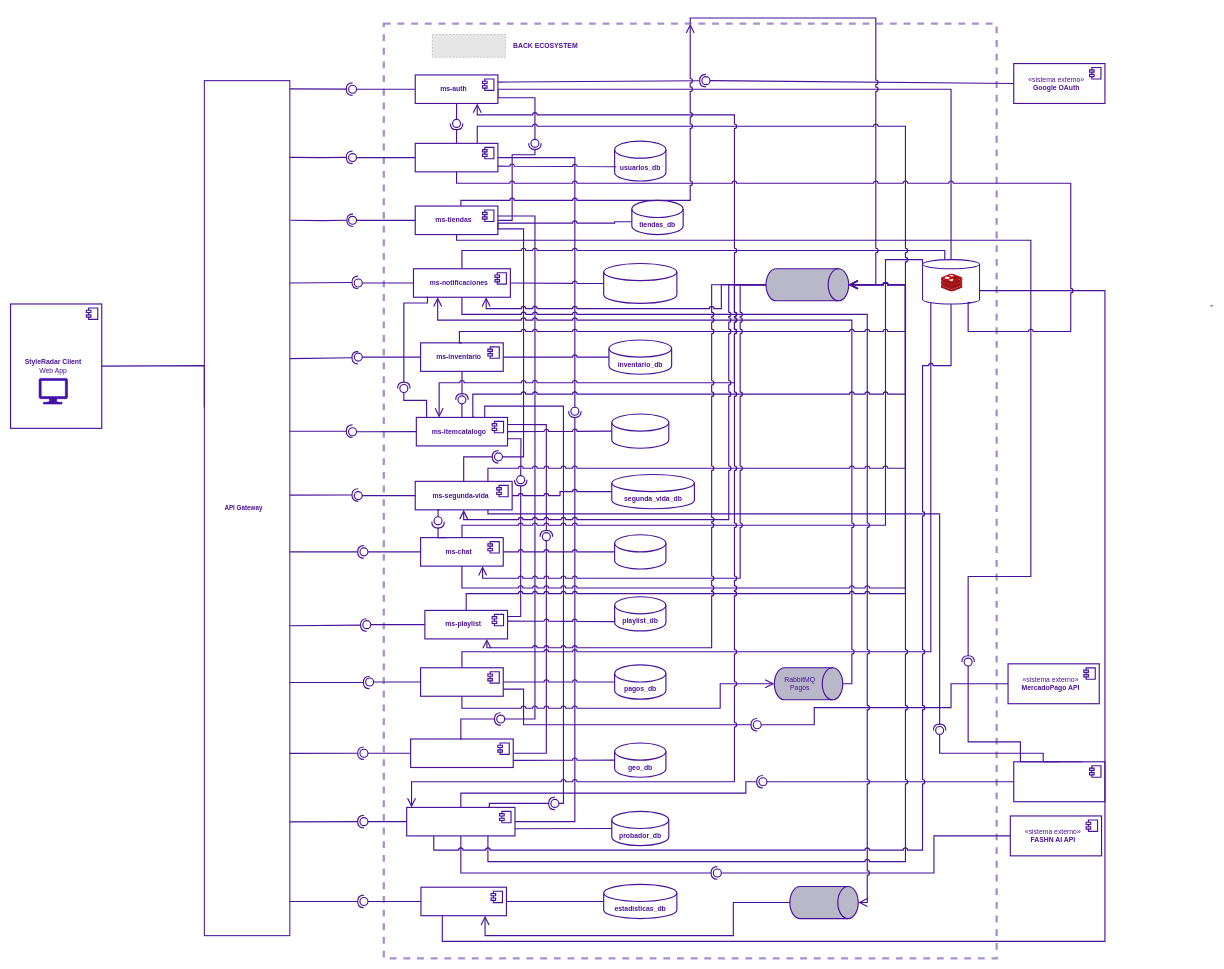
This 1224x969 diagram has some shape labels left out. Grey dashed boxes stand in for pictures. The box of each missing label's shape, as (x1, y1, x2, y2) in pixels:
catalogo_db: (611, 413, 669, 449)
chat_db: (614, 534, 666, 569)
ms-estadisticas: (420, 886, 507, 916)
ms-geolocalizacion: (410, 738, 514, 768)
ms-pagos: (420, 667, 504, 697)
ms-probador-virtual: (406, 807, 515, 836)
ms-usuarios: (414, 142, 498, 172)
notificaciones_db: (603, 263, 677, 304)
RabbitMQ Estadisticas: (789, 886, 859, 919)
RabbitMQ Notificaciones: (765, 268, 849, 301)
Redis: (922, 259, 980, 304)
«sistema externo» Azure Blob Storage: (1013, 761, 1105, 802)
